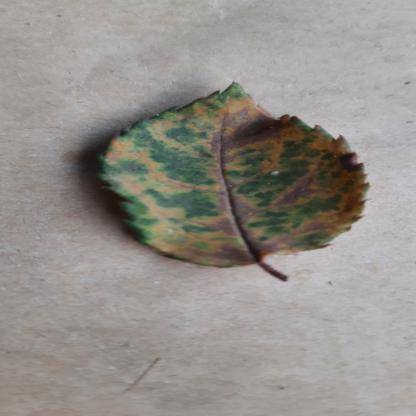black-spot: (100, 82, 380, 266)
